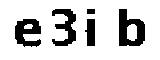3: (45, 5, 79, 51)
b: (114, 5, 147, 50)
e: (13, 18, 42, 50)
i: (83, 3, 100, 52)
